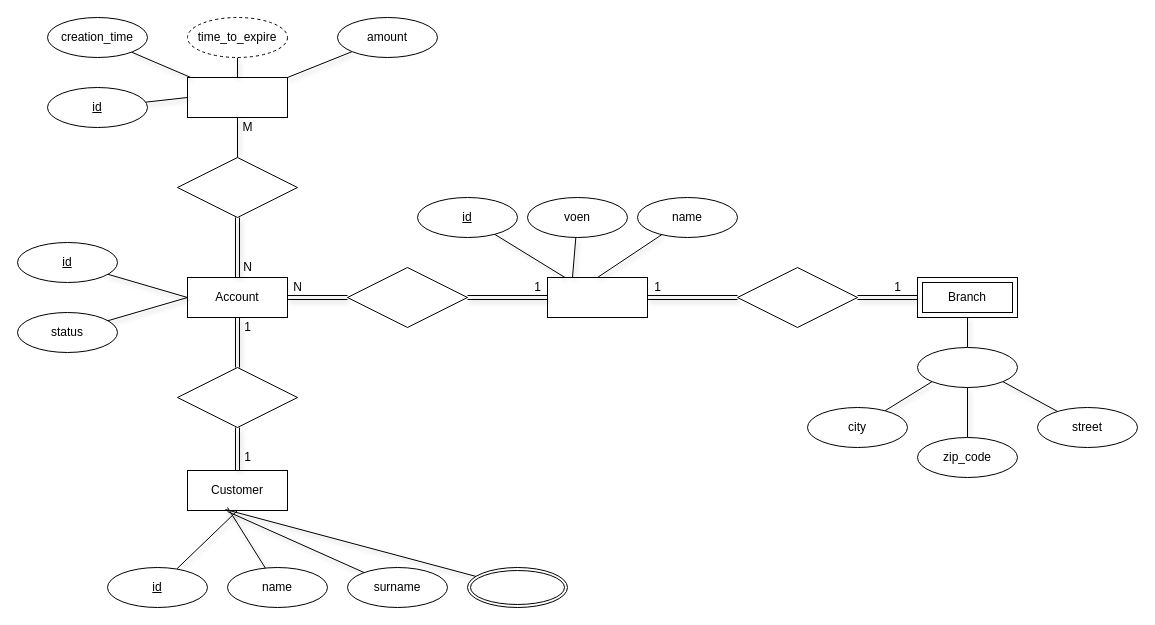
Image size: 1155x625. Some labels were removed from this diagram. Here are the shapes that lost their labels. From the top down, the centre of each, then its label:
(x=237, y=97): Loan
(x=237, y=187): have a
(x=407, y=297): belongs to
(x=597, y=297): Bank
(x=797, y=297): located in
(x=967, y=367): location
(x=237, y=397): has an
(x=517, y=587): phone_number
